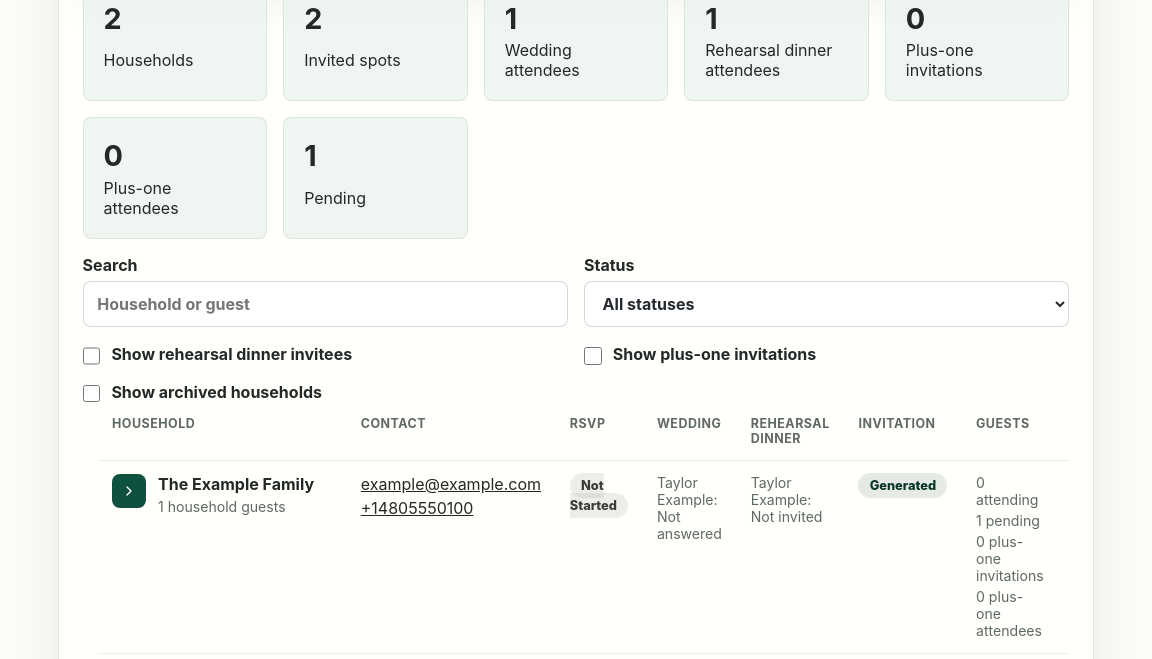
AdminPage admin notifications › filters households with rehearsal dinner invitees and shows both member responses
(page scrolled)
Check: the column heading "Wedding" is shown, box [642, 402, 736, 460]
Check: the column heading "Rehearsal dinner" is shown, box [736, 402, 844, 460]
Click the checkbox labelled "Show rehearsal dinner invitees". click: coordinates (91, 356)
box: [83, 347, 100, 365]
(page scrolled)
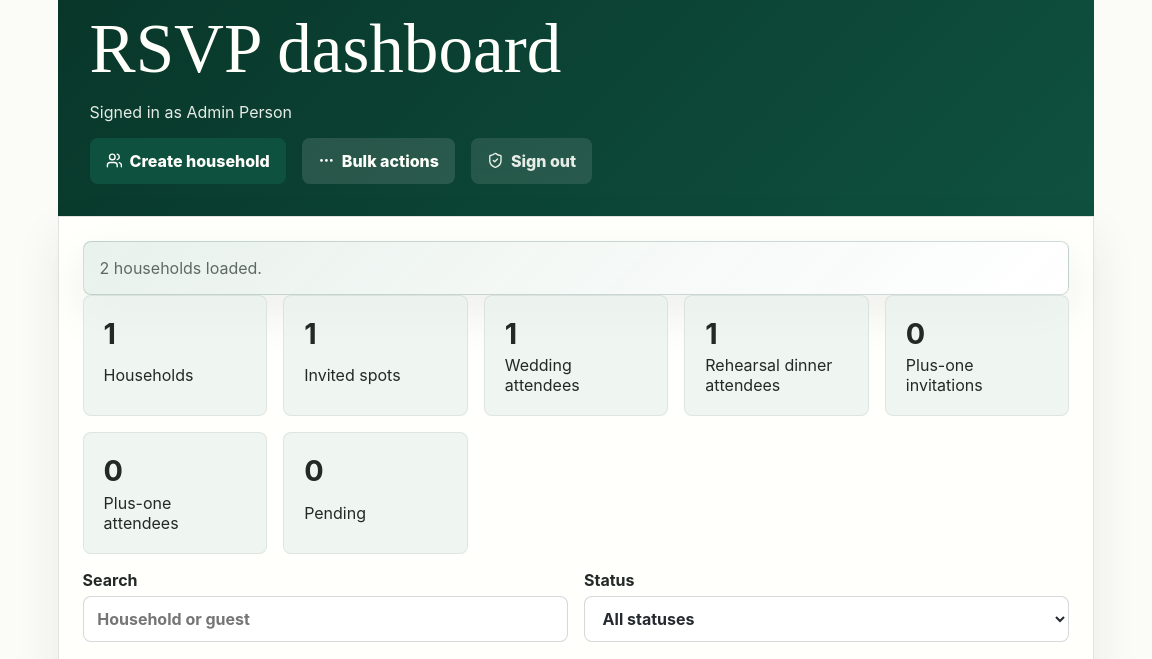
Check: the text "Wedding attendees" reads "1 Wedding attendees", box [484, 295, 668, 416]
Check: the text "The Example Family" is gone
